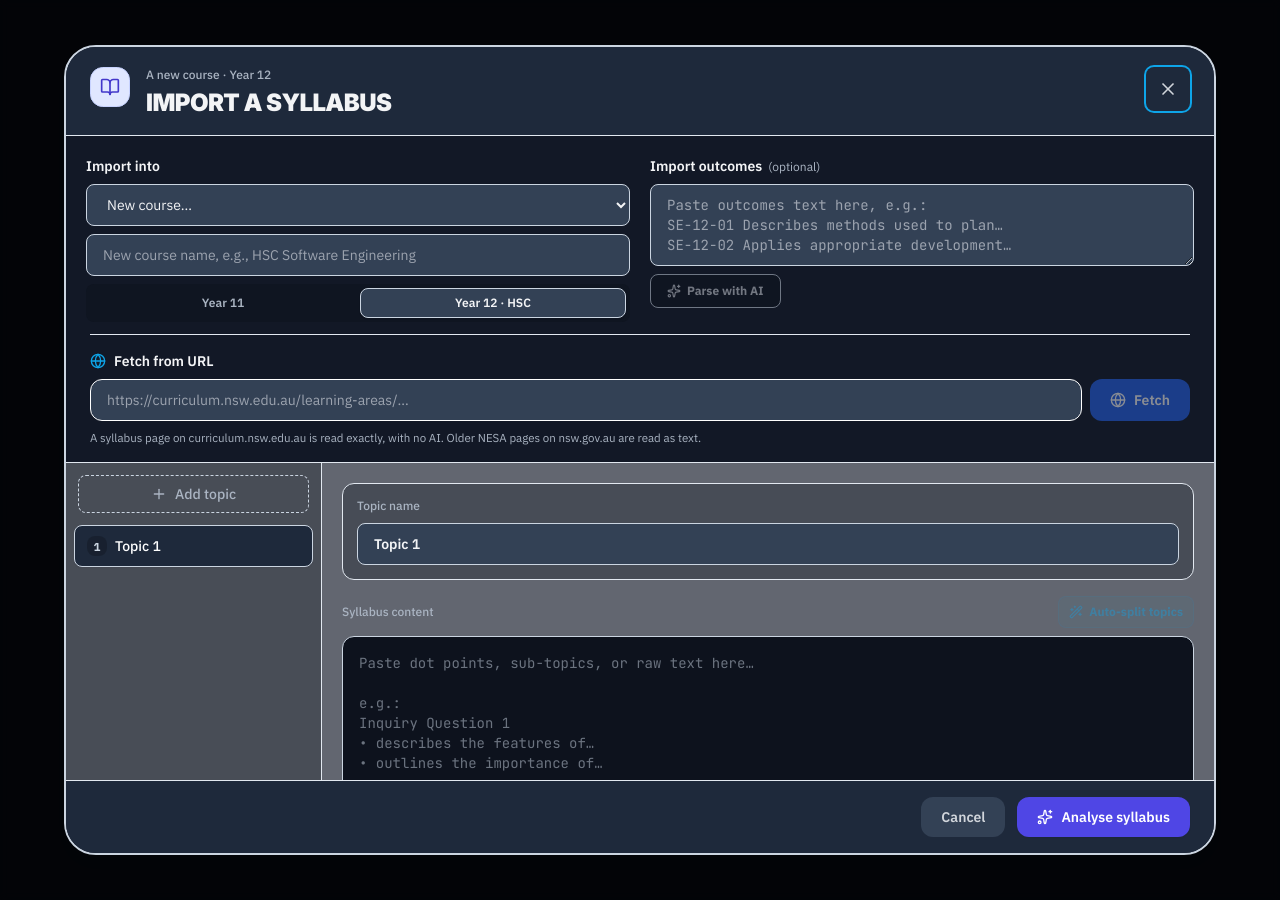
Test: switching between topics being pasted › offers each topic as a button a keyboard can reach
This screenshot has width=1280, height=900.
What coordinates should you click on to do the following:
click the button "Add topic"
I would click on:
 (194, 494)
Its box is [78,475,309,513].
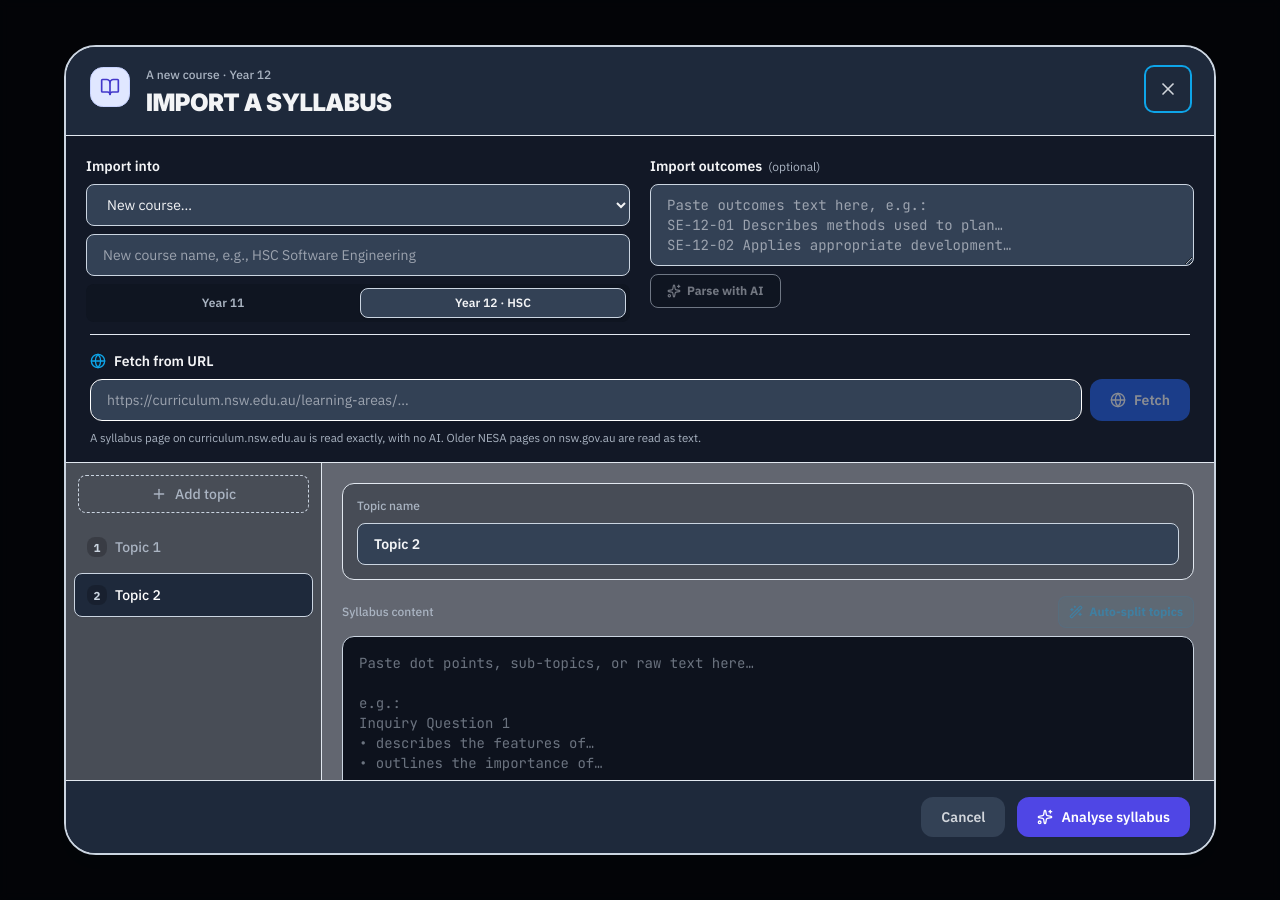
Check: the button "1 Topic 1" is shown, box [87,537,270,557]
Check: the button "2 Topic 2" is shown, box [87,585,270,605]
